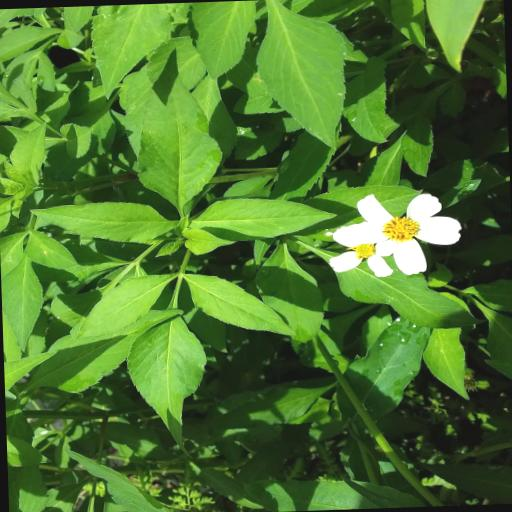Bidens: (330, 185, 472, 280)
